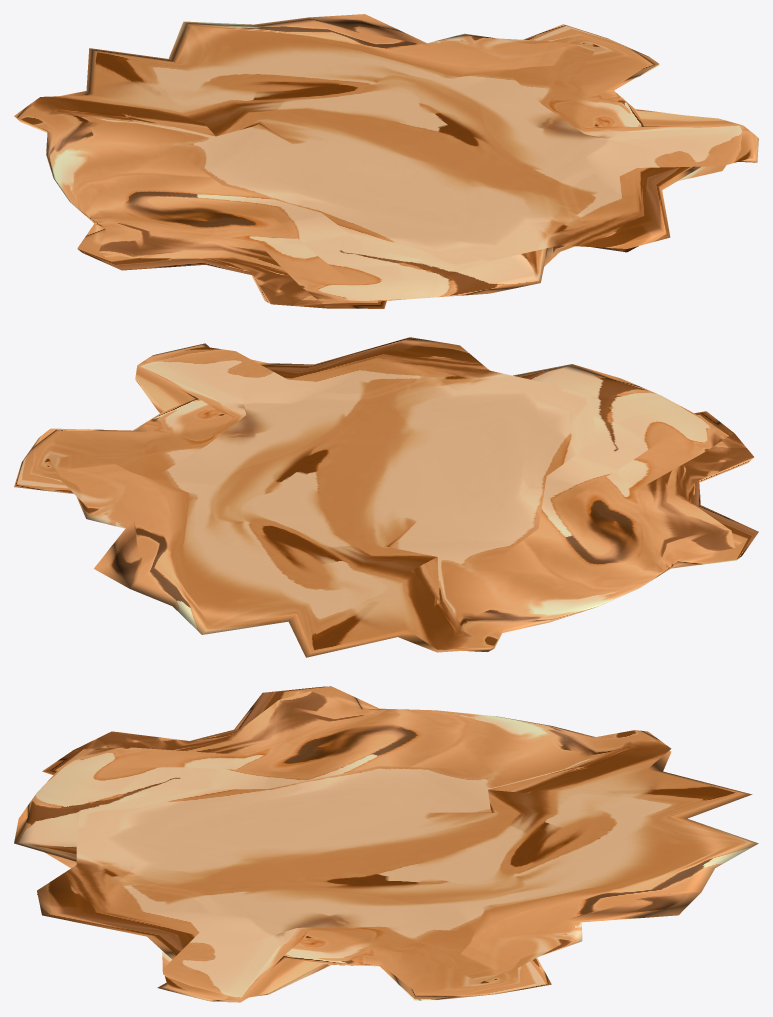
Rendered from aburadamari.fbx.
3 views of the same model, one above another, from view 1: azimuth 30°, elevation 25°; view 2: azimuth 150°, elevation 25°; view 3: azimuth 270°, elevation 25° (orthographic). The views are drawn at different scales.
Visible parts, largest first — view 1: pSphere1; view 2: pSphere1; view 3: pSphere1.
Part boxes in pixels (box(x1,y1,x2,y2)): pSphere1: box(14, 14, 758, 308); pSphere1: box(14, 337, 758, 657); pSphere1: box(14, 686, 758, 1002).
Size of the model in its own units: 498 by 10.54 by 495.
1 material, 1 textured.
